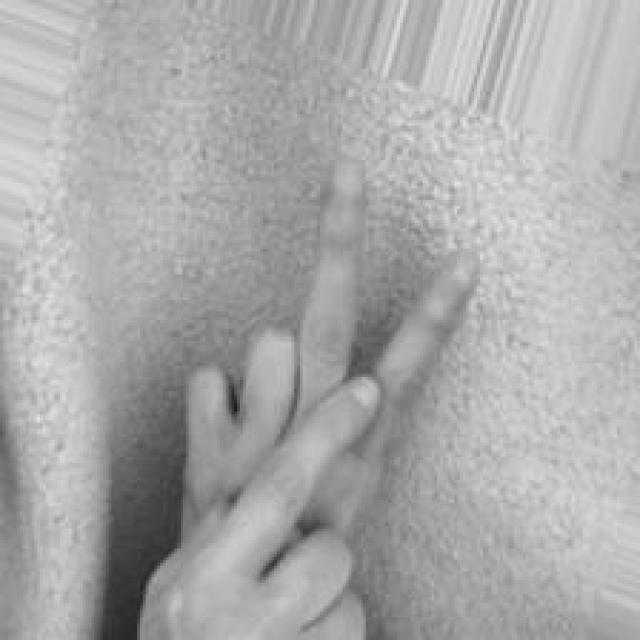Y: (134, 156, 486, 640)
